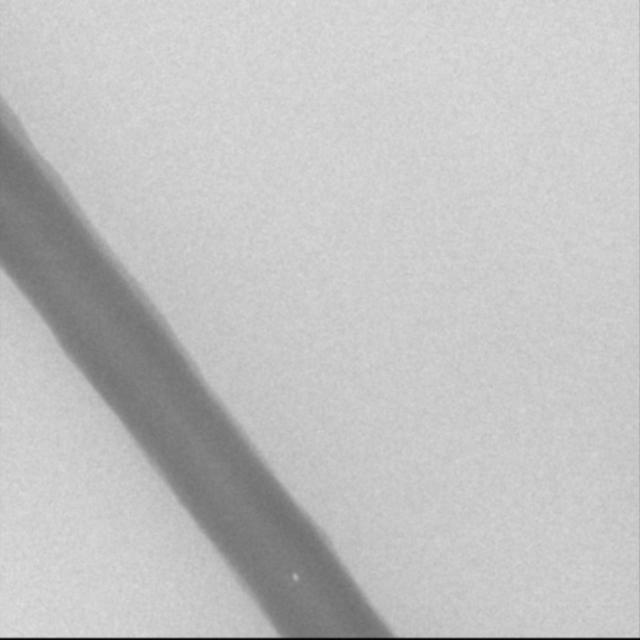air hole: (289, 570, 300, 583)
